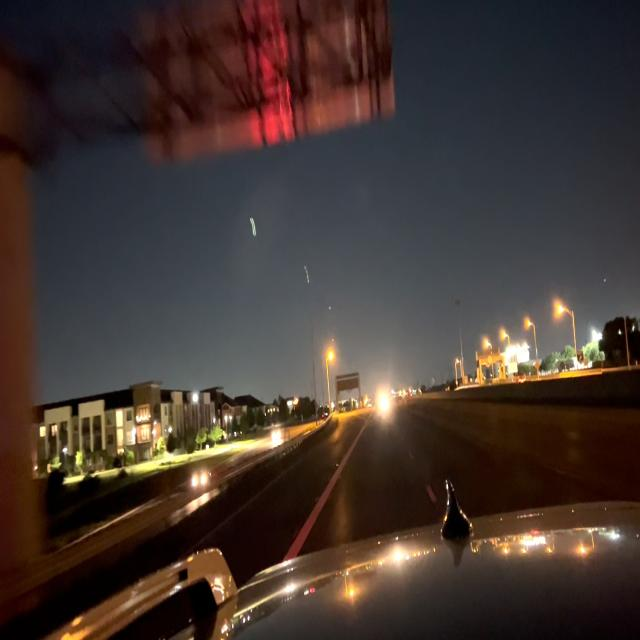back-of-sign: (140, 0, 398, 163)
